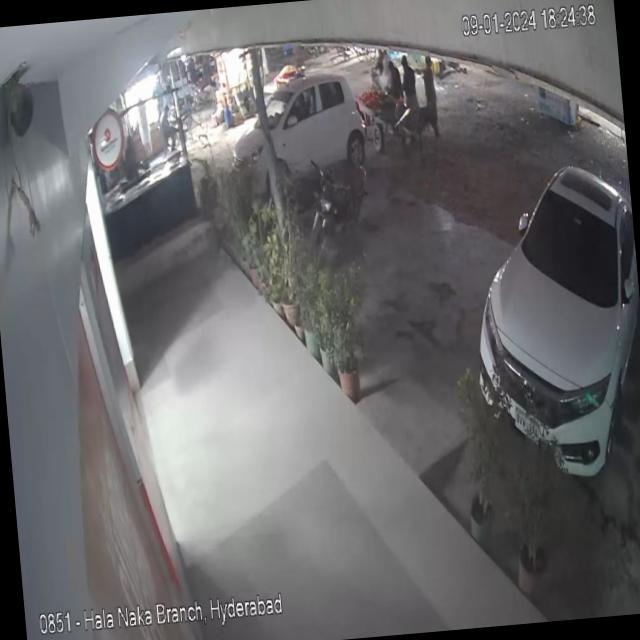Car: (455, 117, 640, 497), (204, 57, 372, 186)
Motorcycle: (304, 145, 374, 254)
